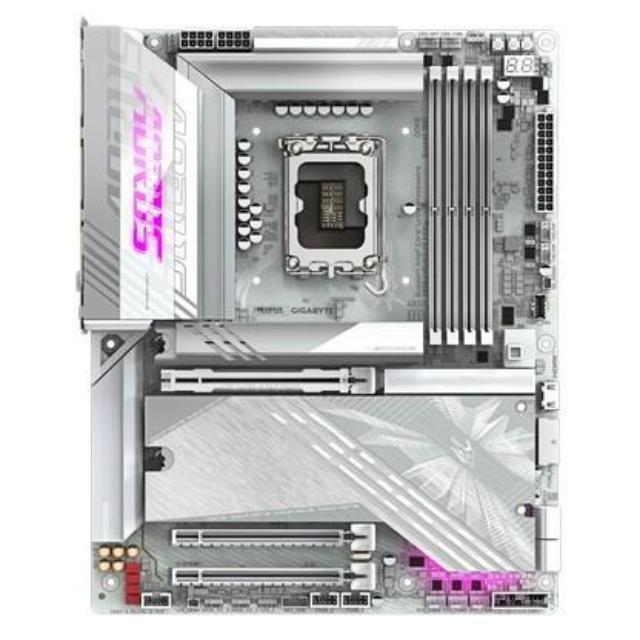Mainboard: (66, 14, 574, 631)
